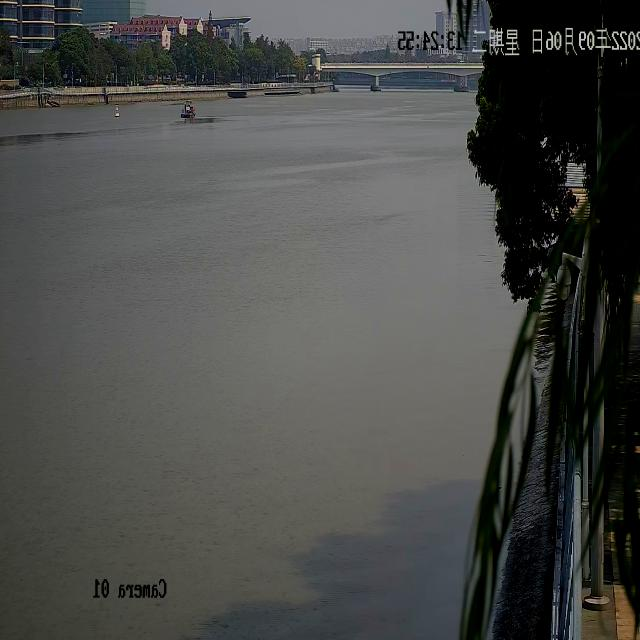ship: (181, 98, 196, 116)
